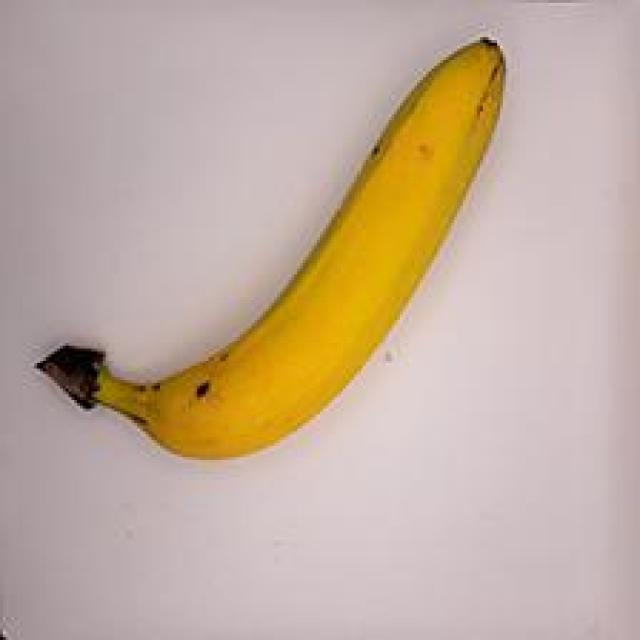ripe: (34, 28, 514, 463)
